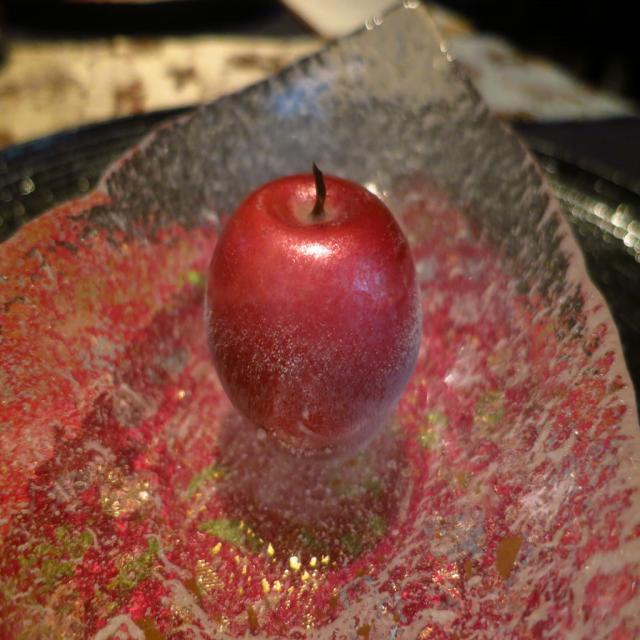Apple: (204, 162, 424, 447)
